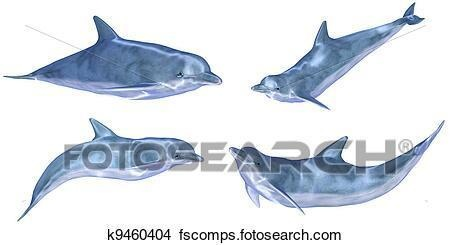fish: (14, 119, 206, 223), (244, 2, 426, 111), (225, 120, 450, 206), (1, 14, 224, 99)
